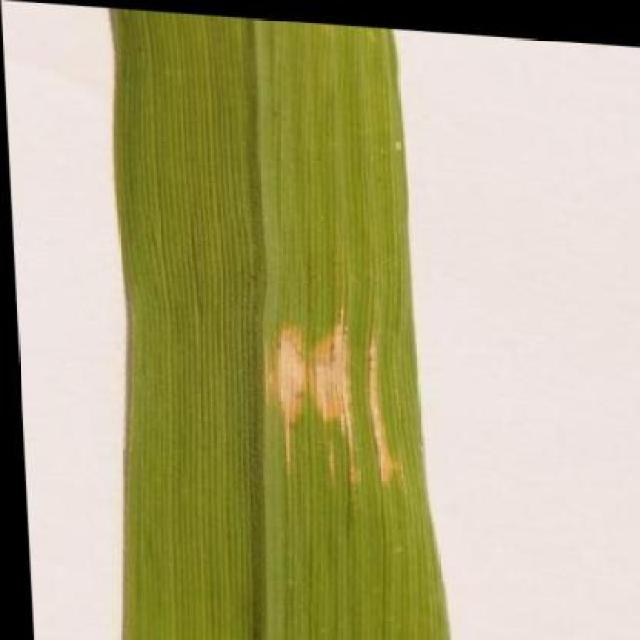Brown_Spot: (87, 4, 426, 640)
